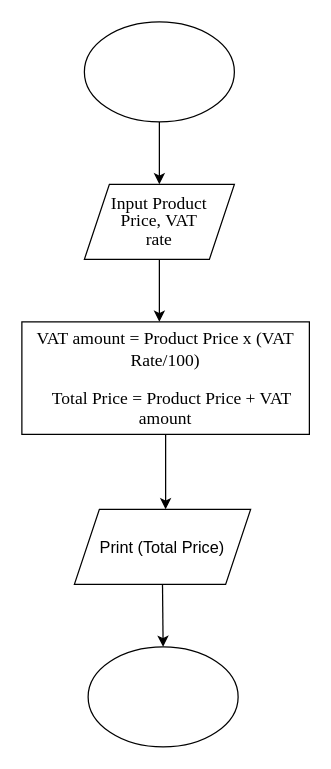
The diagram is 331 pixels wide and 769 high, and some of its shapes have lost their labels. Here are the shapes that lost their labels. From the top down, the box of each, then its label:
(83, 21, 234, 122): Start
(87, 646, 238, 747): End
